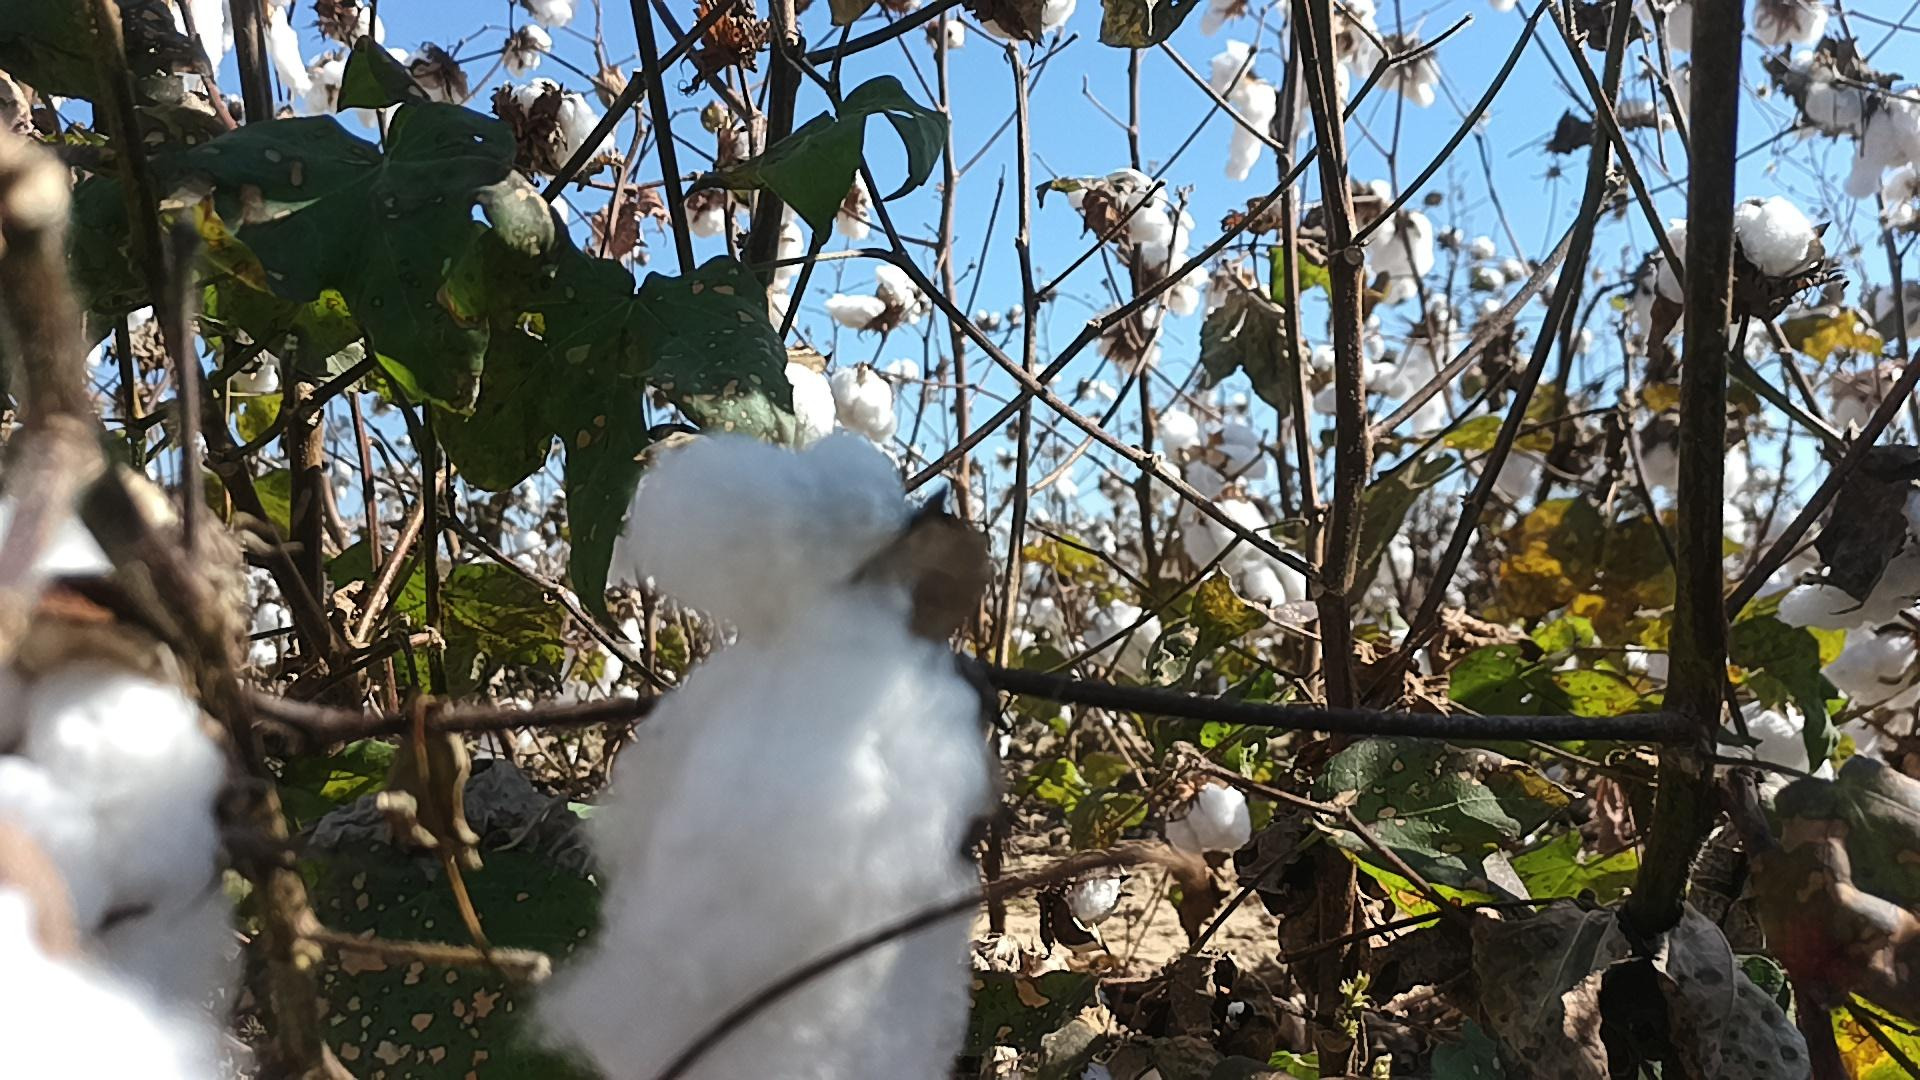cotton_ready: (530, 429, 996, 1080), (0, 666, 243, 1031), (0, 887, 236, 1080), (0, 496, 117, 746), (1780, 485, 1920, 634), (678, 357, 840, 458), (1665, 199, 1809, 298), (1713, 705, 1833, 812), (501, 80, 613, 173), (216, 0, 315, 103), (1205, 40, 1275, 185), (1127, 203, 1216, 316), (1180, 423, 1273, 513), (323, 40, 415, 129), (1846, 91, 1920, 196), (824, 261, 927, 335), (1825, 636, 1920, 713), (1792, 47, 1875, 133), (1077, 601, 1166, 682), (1069, 171, 1171, 240), (146, 0, 225, 86), (1188, 496, 1274, 575), (1315, 343, 1407, 415), (479, 171, 559, 253), (829, 363, 901, 443), (765, 194, 807, 327), (1168, 786, 1250, 855), (1640, 245, 1688, 340), (728, 115, 773, 211), (404, 47, 472, 109), (978, 0, 1075, 40), (1244, 555, 1309, 607), (316, 0, 382, 47), (1072, 865, 1124, 920)
